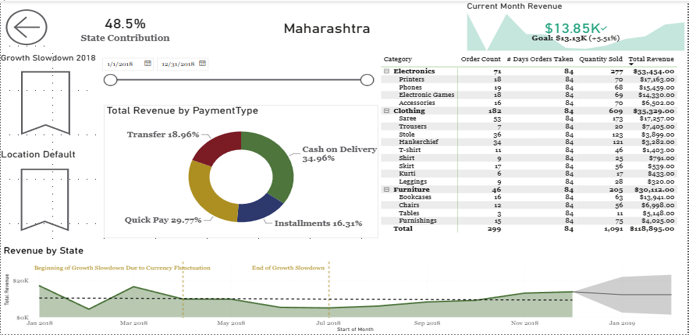

The page's visual inventory and layout, read from the dashboard file:
{"tool":"powerbi","page":{"name":"Location Dashboard","canvas":[1280,720],"ordinal":6},"visuals":[{"type":"lineChart","title":"Revenue by State","fields":{"Category":["Calendar.Start of Month"],"Y":["Measures Table.Total Revenue"]},"box":[0,528,1280,192],"z":0},{"type":"pivotTable","fields":{"Values":["Measures Table.Order Count","Measures Table.# Days Orders Taken","Measures Table.Quantity Sold","Measures Table.Total Revenue"],"Rows":["details.Category","details.SubCategory"]},"box":[704,112,576,416],"z":1000},{"type":"actionButton","box":[0,0,96,112],"z":2000},{"type":"card","fields":{"Values":["Measures Table.Selected State"]},"box":[352,0,512,112],"z":3000},{"type":"card","fields":{"Values":["Measures Table.State Contribution"]},"box":[96,0,272,112],"z":4000},{"type":"kpi","title":"Current Month Revenue","fields":{"Indicator":["Measures Table.Total Revenue"],"TrendLine":["Calendar.Month"],"Goal":["Measures Table.Revenue 1 Month Prior"]},"box":[864,0,416,112],"z":5000},{"type":"donutChart","fields":{"Y":["Measures Table.Total Revenue"],"Series":["details.PaymentType"]},"box":[192,224,512,288],"z":6000},{"type":"slicer","fields":{"Values":["orderss.OrderDate"]},"box":[176,112,528,112],"z":7000},{"type":"actionButton","title":"Growth Slowdown 2018","box":[0,112,192,192],"z":8000},{"type":"actionButton","title":"Location Default","box":[0,320,192,192],"z":9000}]}

Visuals, with their boxes on the page's 1280x720 design canvas (x1, y1, x2, y2). These are canvas units, not pixel positions in the 689x335 screenshot, which may show the page scaled, cropped or inside an application window:
"Revenue by State" lineChart: <region>0, 528, 1280, 720</region>
pivotTable - Measures Table.Order Count x Measures Table.# Days Orders Taken: <region>704, 112, 1280, 528</region>
actionButton: <region>0, 0, 96, 112</region>
card - Measures Table.Selected State: <region>352, 0, 864, 112</region>
card - Measures Table.State Contribution: <region>96, 0, 368, 112</region>
"Current Month Revenue" kpi: <region>864, 0, 1280, 112</region>
donutChart - Measures Table.Total Revenue x details.PaymentType: <region>192, 224, 704, 512</region>
slicer - orderss.OrderDate: <region>176, 112, 704, 224</region>
"Growth Slowdown 2018" actionButton: <region>0, 112, 192, 304</region>
"Location Default" actionButton: <region>0, 320, 192, 512</region>
